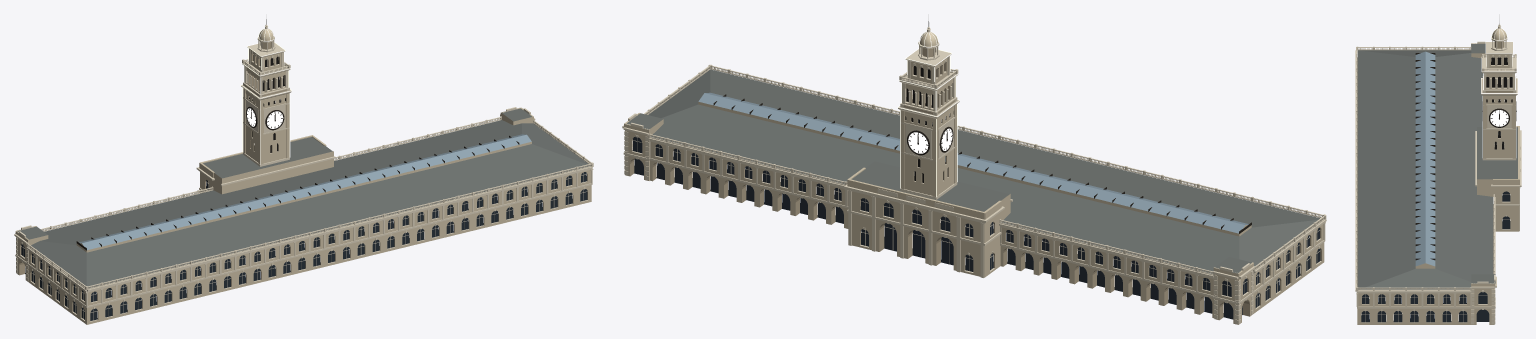
File: ferry-building.glb
3 renders of one model, left to right at view 1: azimuth 30°, elevation 25°; view 2: azimuth 150°, elevation 25°; view 3: azimuth 270°, elevation 25°, orthographic. The views are drawn at different scales.
Visible parts, largest first — view 1: building, tower, tower_outline_lights; view 2: building, tower, tower_outline_lights; view 3: building, tower, tower_outline_lights.
Boxes of the visible parts, bbox=[...] form: building: bbox=[14, 107, 593, 324]; tower: bbox=[241, 14, 291, 166]; tower_outline_lights: bbox=[241, 28, 291, 164]; building: bbox=[622, 64, 1326, 324]; tower: bbox=[898, 14, 959, 199]; tower_outline_lights: bbox=[897, 31, 959, 197]; building: bbox=[1355, 41, 1521, 324]; tower: bbox=[1481, 14, 1517, 160]; tower_outline_lights: bbox=[1481, 28, 1517, 157].
Size of the model in its own units: 205 by 75.4 by 59.54.
